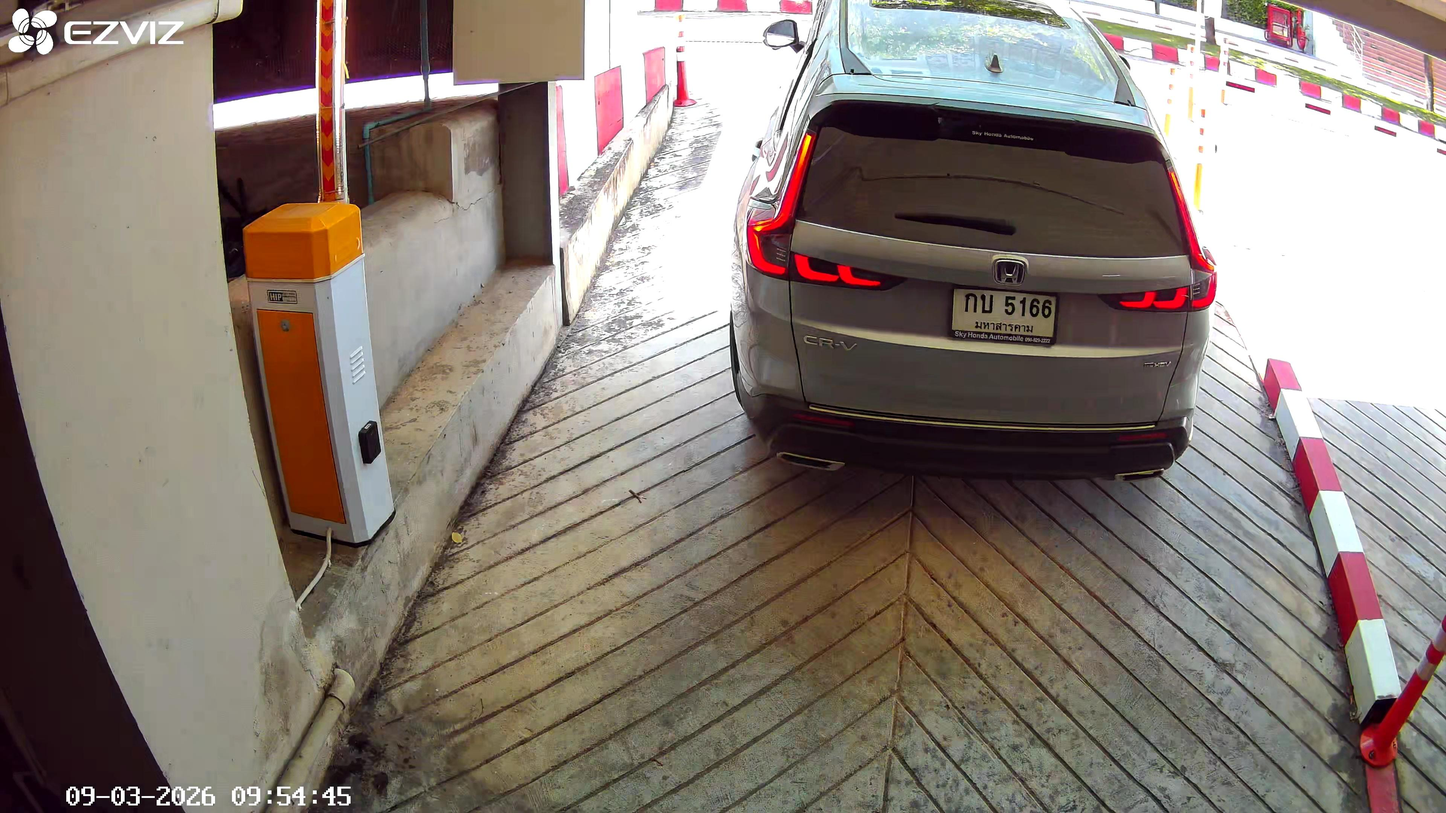car: (726, 5, 1217, 486)
license-plate: (947, 282, 1060, 345)
